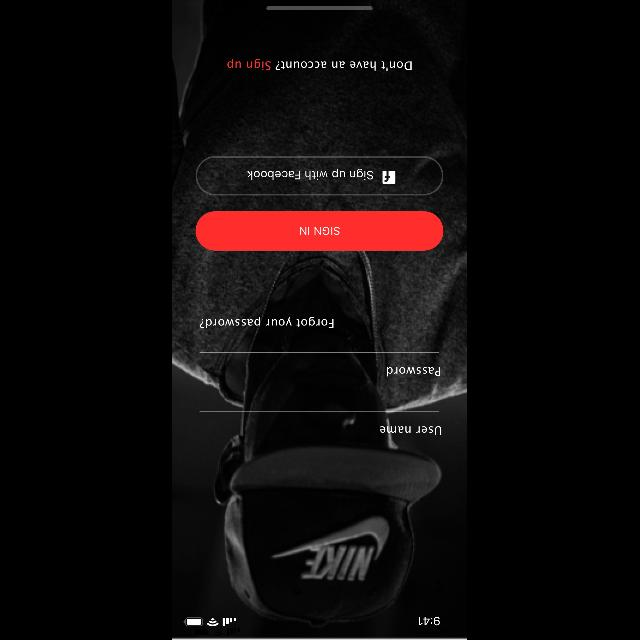backgroundimage: (172, 1, 468, 640)
input: (200, 411, 442, 435), (200, 352, 440, 376)
text: (228, 59, 412, 71), (381, 426, 442, 436), (388, 366, 440, 376)
textbutton: (196, 157, 444, 196), (196, 212, 444, 250), (200, 316, 334, 328)
uppertaskbar: (184, 616, 440, 626)
